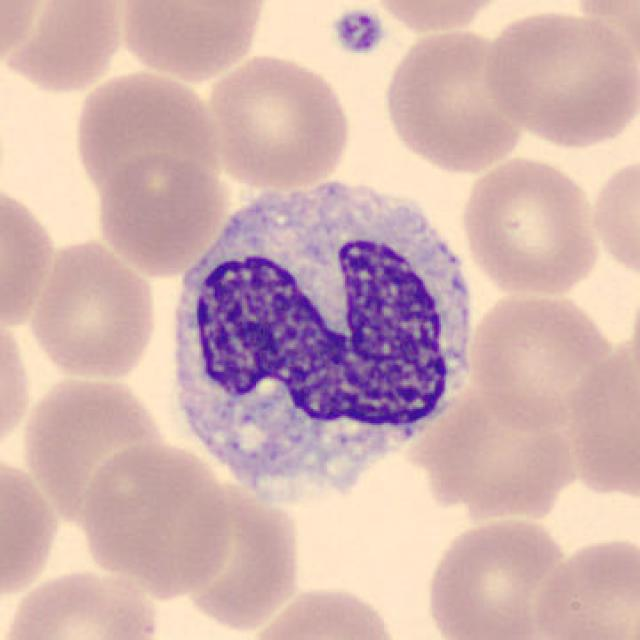Monocyte: (154, 167, 483, 508)
Platelets: (329, 5, 387, 58)
RBC: (78, 439, 238, 599), (478, 3, 636, 150), (464, 286, 617, 434), (379, 24, 528, 174), (418, 390, 582, 526), (201, 51, 355, 191), (457, 153, 603, 298), (69, 67, 224, 201), (27, 234, 162, 384), (170, 486, 310, 626), (422, 511, 572, 640), (93, 148, 230, 277), (114, 0, 272, 81), (526, 530, 640, 640), (0, 564, 164, 640), (564, 338, 640, 497), (2, 0, 128, 95), (0, 450, 62, 604), (242, 582, 404, 640), (0, 178, 57, 337), (587, 150, 638, 284), (362, 0, 519, 35), (0, 308, 34, 458), (572, 0, 638, 76), (0, 0, 48, 76)
